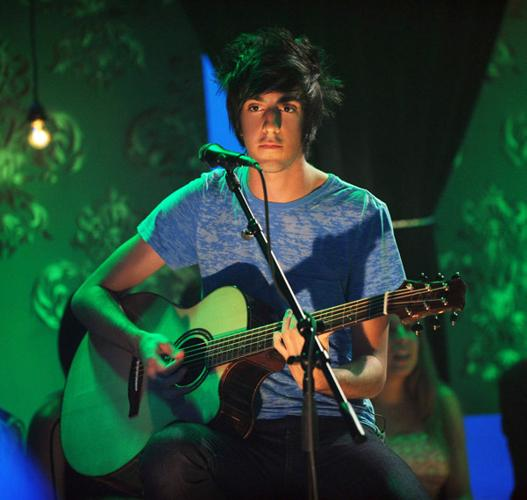person: (71, 29, 432, 498)
